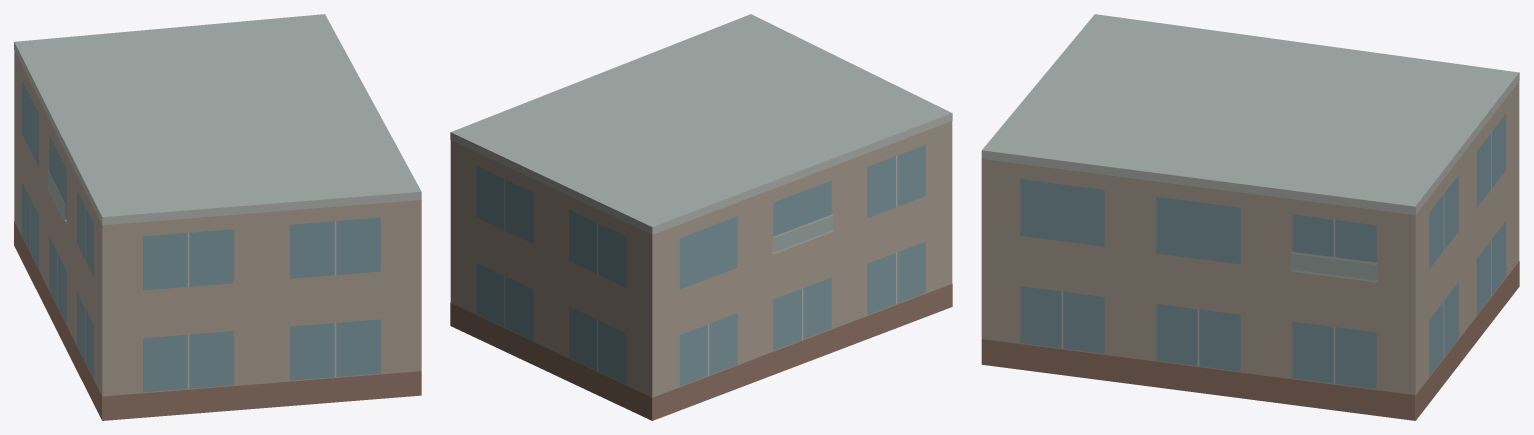
Rendered from survey-upis-32713096.glb.
3 views of the same model, side by side, from view 1: azimuth 30°, elevation 25°; view 2: azimuth 150°, elevation 25°; view 3: azimuth 270°, elevation 25° (orthographic). The views are drawn at different scales.
Visible parts, largest first — view 1: survey-upis-32713096.tmp; view 2: survey-upis-32713096.tmp; view 3: survey-upis-32713096.tmp.
Part boxes in pixels (box(x1,y1,x2,y2)): survey-upis-32713096.tmp: box(14, 14, 421, 420); survey-upis-32713096.tmp: box(450, 14, 952, 420); survey-upis-32713096.tmp: box(981, 14, 1519, 420).
Size of the model in its own units: 11.77 by 6.1 by 13.88.
